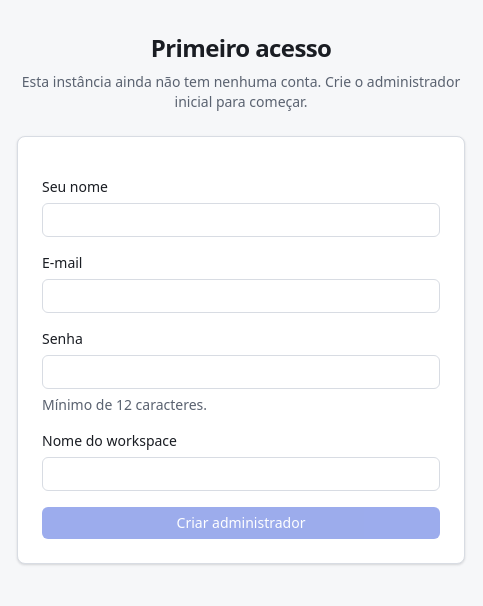
Test case: FirstRunPage (BOOT-12..16) › shows the refused field message and preserves the other values on 400 (BOOT-15)
Step 1. Type "Admin" into the field labelled "Seu nome" → (241,220), box [42,203,440,237]
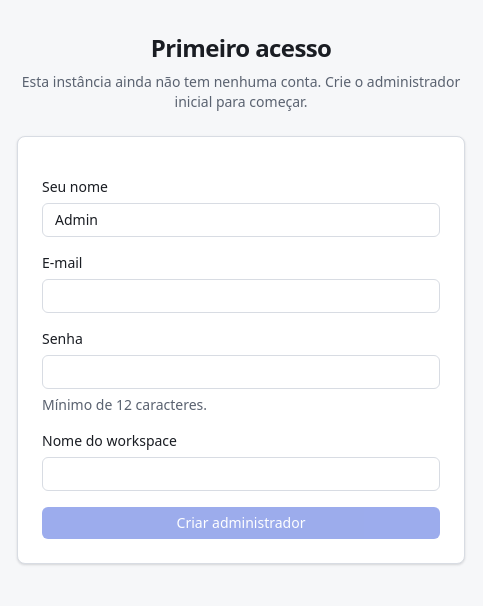
Step 2. Type "admin@example.com" into the field labelled "E-mail" → (241,296), box [42,279,440,313]
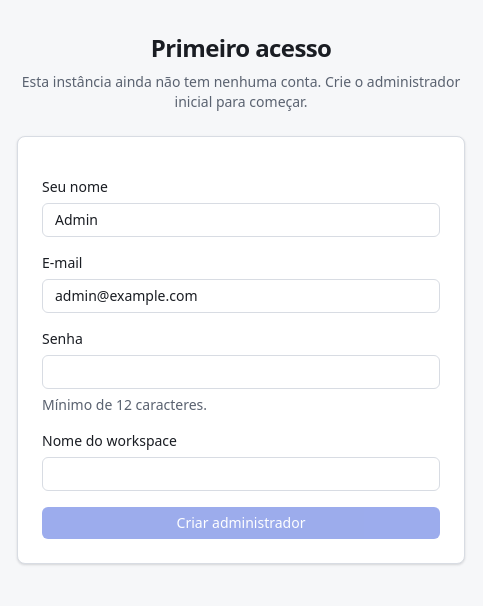
Step 3. Type "correct horse battery staple" into the password field labelled "Senha" → (241,372), box [42,355,440,389]
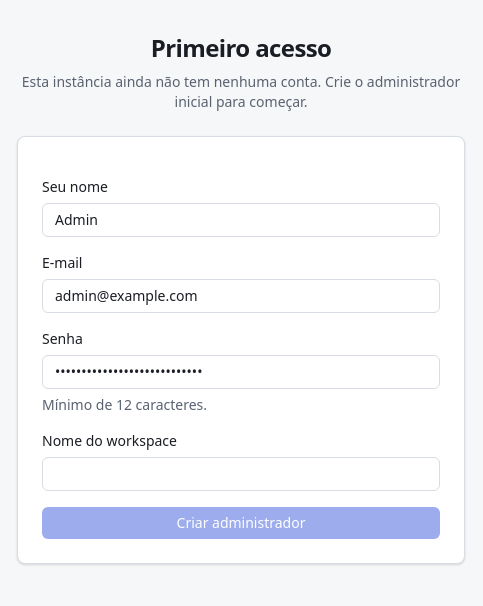
Step 4. Type "Arquitetura" into the field labelled "Nome do workspace" → (241,474), box [42,457,440,491]
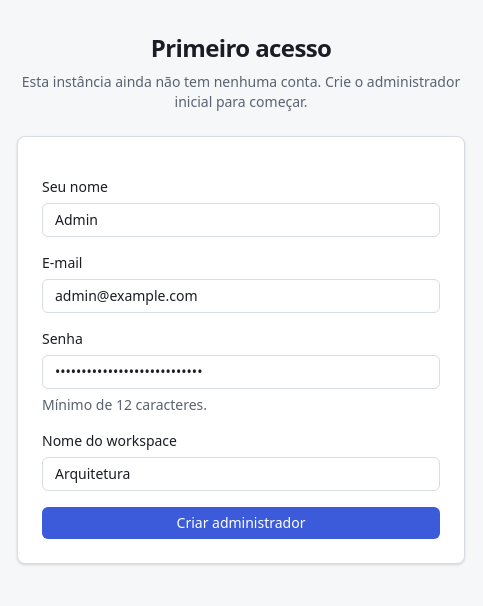
Step 5. Click the button "Criar administrador" → (241,523), box [42,507,440,539]
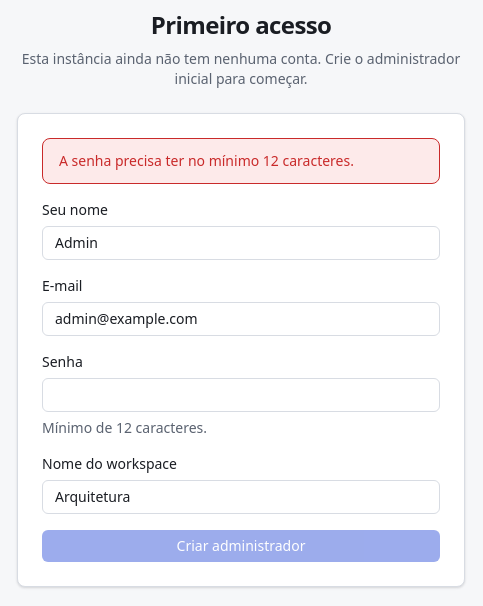
Expected: the text "A senha precisa ter no mínimo 12 caracteres." is shown, [42,138,440,184]
Expected: the password field labelled "Senha" is empty, [42,378,440,412]
